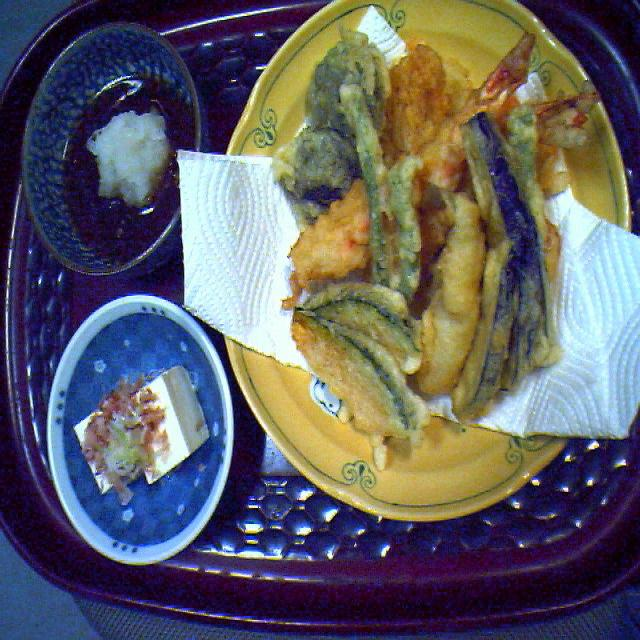蔬菜料理: (284, 0, 606, 465)
